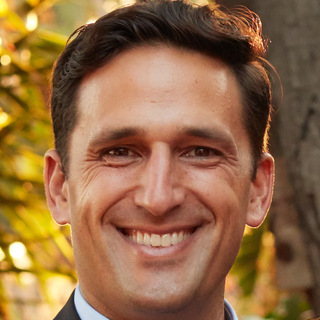eye: (93, 140, 145, 163), (175, 141, 224, 164)
